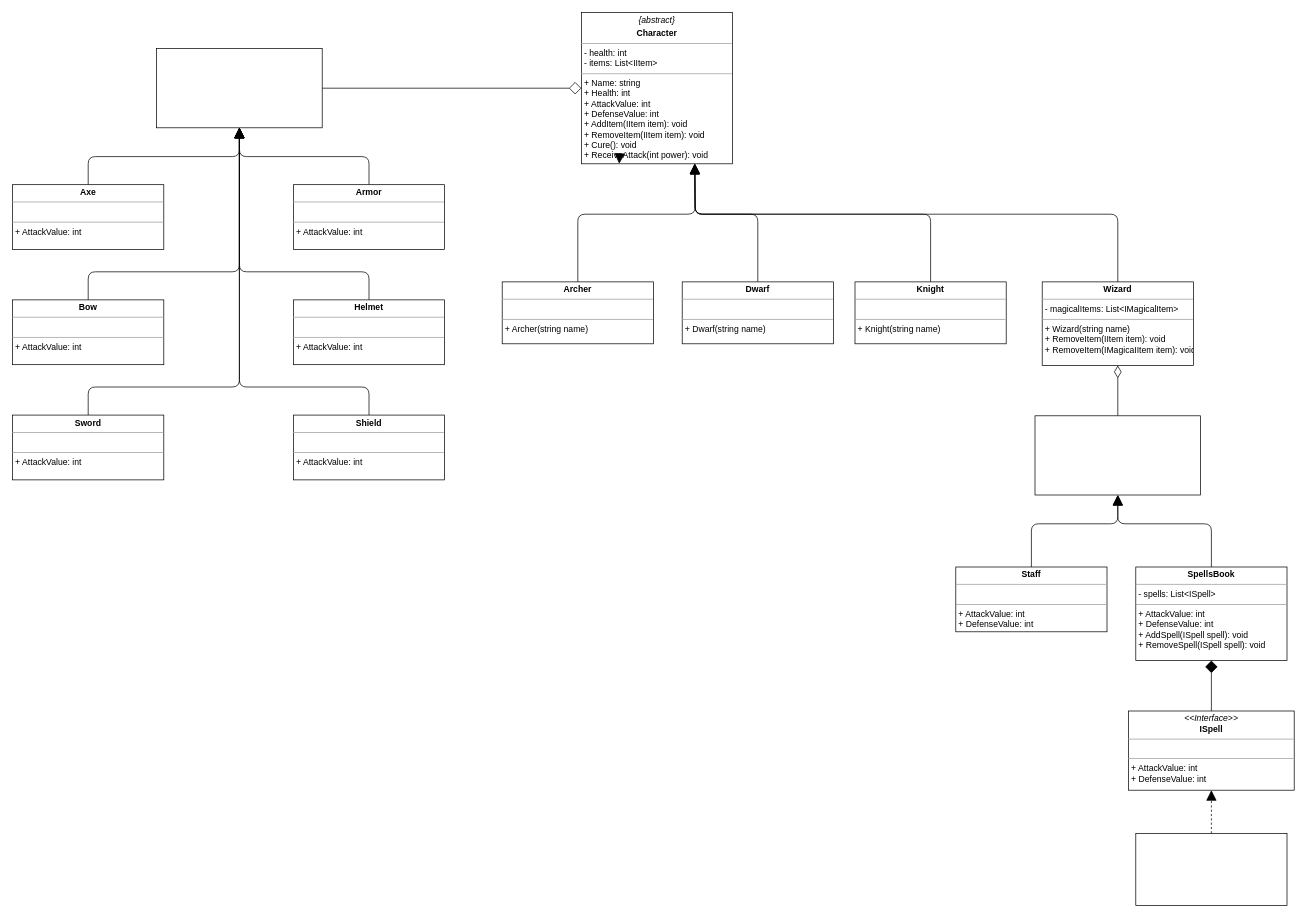
Some shapes in this 1307 by 918 pixel diagram are drawn without their labels. The box of each missing label's shape, as (x1, y1, x2, y2) in pixels:
SpellOne - name: string + AttackValue: int + DefenseValue: int: (1135, 833, 1287, 905)
{abstract} Item - name: string + AttackValue: int + DefenseValue: int: (156, 48, 322, 128)
{abstract} MagicItem + AttackValue: int + DefenseValue: int: (1034, 415, 1201, 495)
